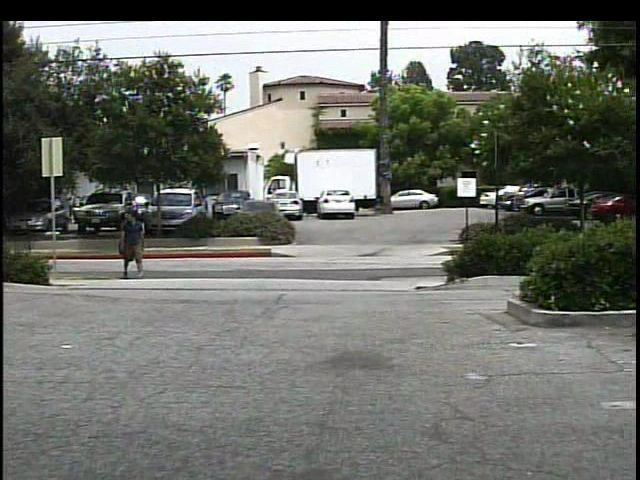person: (117, 208, 150, 284)
